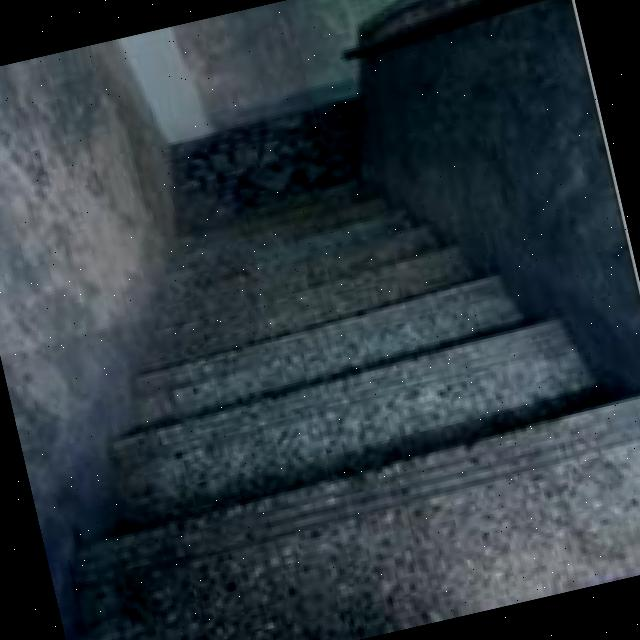green_light: (0, 104, 640, 640), (112, 175, 121, 180)
